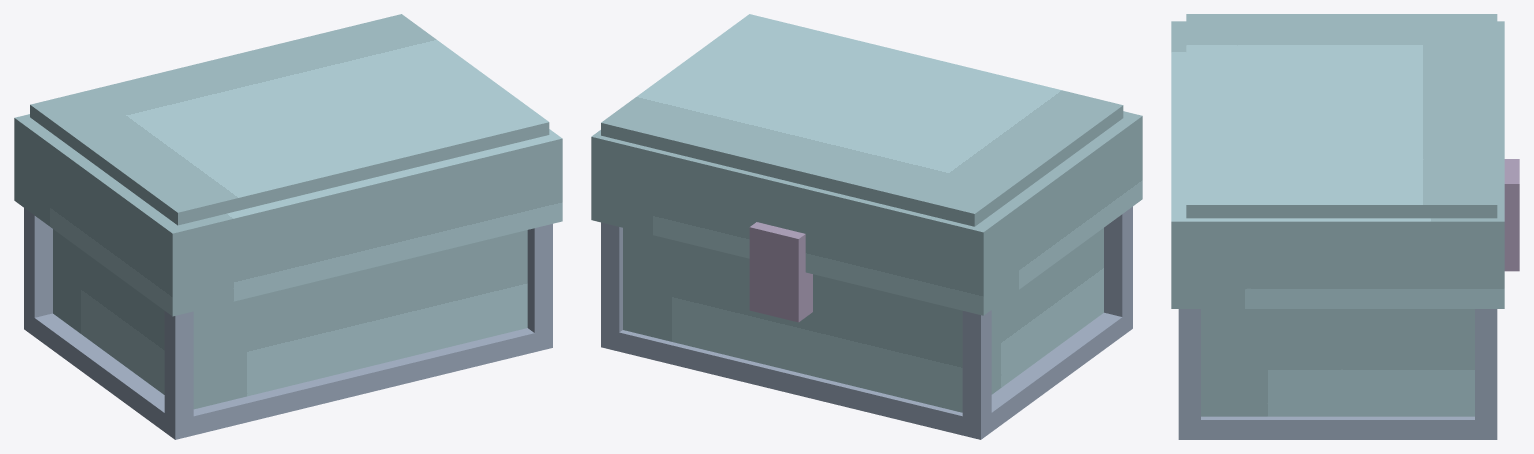
The model's file is IAShopChest.gltf.
3 views of the same model, side by side, from view 1: azimuth 30°, elevation 25°; view 2: azimuth 150°, elevation 25°; view 3: azimuth 270°, elevation 25° (orthographic). The views are drawn at different scales.
Parts seen in each view (by area): view 1: 35537e47-b1a4-7860-8c4f-06f47b93dfc7, df0d8bd0-1d3f-83d3-ddca-d650381cd625, db227c90-b457-0047-380e-946e9ef17cd7, 419491ba-918e-811b-befa-73aa12201fdd, 2de74b60-d99b-a9bd-3cb2-233347d7b294, cab9297c-a058-c592-073f-c8330591830d, efefb59d-fcf8-b9d0-eab6-0c3447c30704, 231a7d81-77aa-eb57-9a25-805bb004ba25; view 2: 35537e47-b1a4-7860-8c4f-06f47b93dfc7, df0d8bd0-1d3f-83d3-ddca-d650381cd625, db227c90-b457-0047-380e-946e9ef17cd7, fe75ef3b-b461-c687-b3ff-53ad344db169, ebaf4a0f-1fcf-09b6-4623-2fe983561b47, 2de74b60-d99b-a9bd-3cb2-233347d7b294, 231a7d81-77aa-eb57-9a25-805bb004ba25, cab9297c-a058-c592-073f-c8330591830d, 833fec28-f1c9-ffb5-f959-f7fe429ad99f; view 3: 35537e47-b1a4-7860-8c4f-06f47b93dfc7, df0d8bd0-1d3f-83d3-ddca-d650381cd625, db227c90-b457-0047-380e-946e9ef17cd7, d7f0e7dc-7b43-d68e-fa02-a862cbf1ea11, efefb59d-fcf8-b9d0-eab6-0c3447c30704, 833fec28-f1c9-ffb5-f959-f7fe429ad99f, ebaf4a0f-1fcf-09b6-4623-2fe983561b47.
Boxes of the visible parts, box(x1,y1,x2,y2) form: 35537e47-b1a4-7860-8c4f-06f47b93dfc7: box(30, 14, 549, 225); df0d8bd0-1d3f-83d3-ddca-d650381cd625: box(14, 114, 562, 316); db227c90-b457-0047-380e-946e9ef17cd7: box(53, 229, 527, 409); 419491ba-918e-811b-befa-73aa12201fdd: box(187, 328, 534, 436); 2de74b60-d99b-a9bd-3cb2-233347d7b294: box(34, 313, 164, 431); cab9297c-a058-c592-073f-c8330591830d: box(164, 311, 193, 439); efefb59d-fcf8-b9d0-eab6-0c3447c30704: box(527, 224, 552, 351); 231a7d81-77aa-eb57-9a25-805bb004ba25: box(24, 208, 52, 336); 35537e47-b1a4-7860-8c4f-06f47b93dfc7: box(601, 14, 1123, 226); df0d8bd0-1d3f-83d3-ddca-d650381cd625: box(591, 111, 1142, 315); db227c90-b457-0047-380e-946e9ef17cd7: box(623, 228, 1103, 412); fe75ef3b-b461-c687-b3ff-53ad344db169: box(619, 330, 962, 435); ebaf4a0f-1fcf-09b6-4623-2fe983561b47: box(749, 222, 812, 322); 2de74b60-d99b-a9bd-3cb2-233347d7b294: box(991, 312, 1122, 431); 231a7d81-77aa-eb57-9a25-805bb004ba25: box(962, 310, 991, 439); cab9297c-a058-c592-073f-c8330591830d: box(1104, 206, 1132, 335); 833fec28-f1c9-ffb5-f959-f7fe429ad99f: box(601, 222, 622, 351); 35537e47-b1a4-7860-8c4f-06f47b93dfc7: box(1186, 14, 1497, 218); df0d8bd0-1d3f-83d3-ddca-d650381cd625: box(1171, 21, 1504, 308); db227c90-b457-0047-380e-946e9ef17cd7: box(1201, 309, 1474, 416); d7f0e7dc-7b43-d68e-fa02-a862cbf1ea11: box(1201, 416, 1474, 439); efefb59d-fcf8-b9d0-eab6-0c3447c30704: box(1178, 309, 1200, 439); 833fec28-f1c9-ffb5-f959-f7fe429ad99f: box(1475, 309, 1497, 439); ebaf4a0f-1fcf-09b6-4623-2fe983561b47: box(1504, 159, 1519, 271).
Size of the model in its own units: 6.4 by 3.5 by 4.7.
3 materials, 3 textured.
